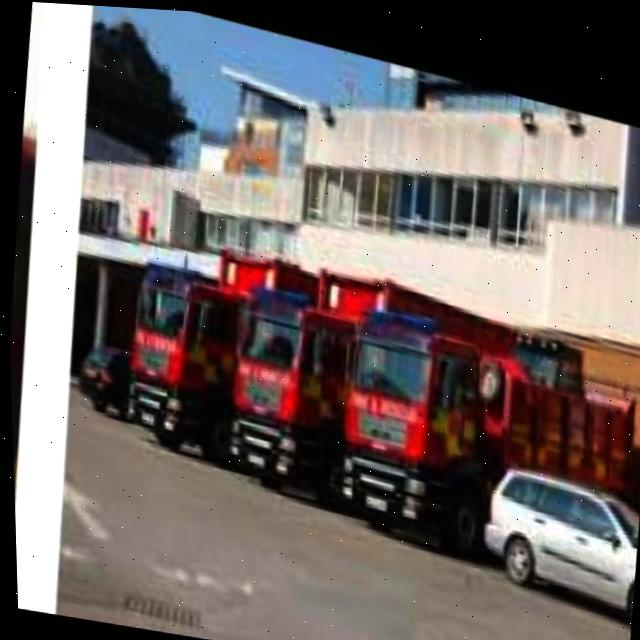emergency: (113, 235, 504, 497), (212, 249, 543, 529), (324, 297, 640, 576)
